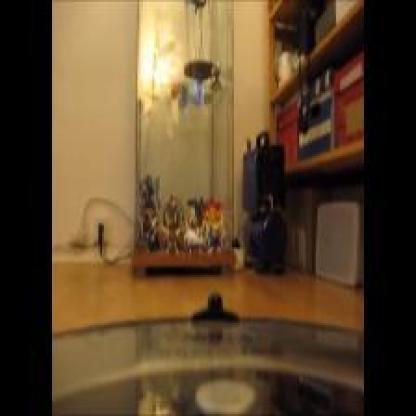other: (134, 19, 185, 121)
